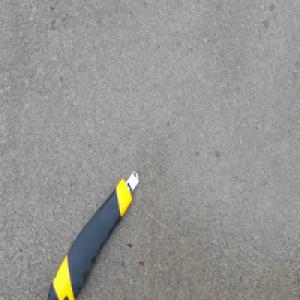Cutter: (46, 166, 139, 300)
